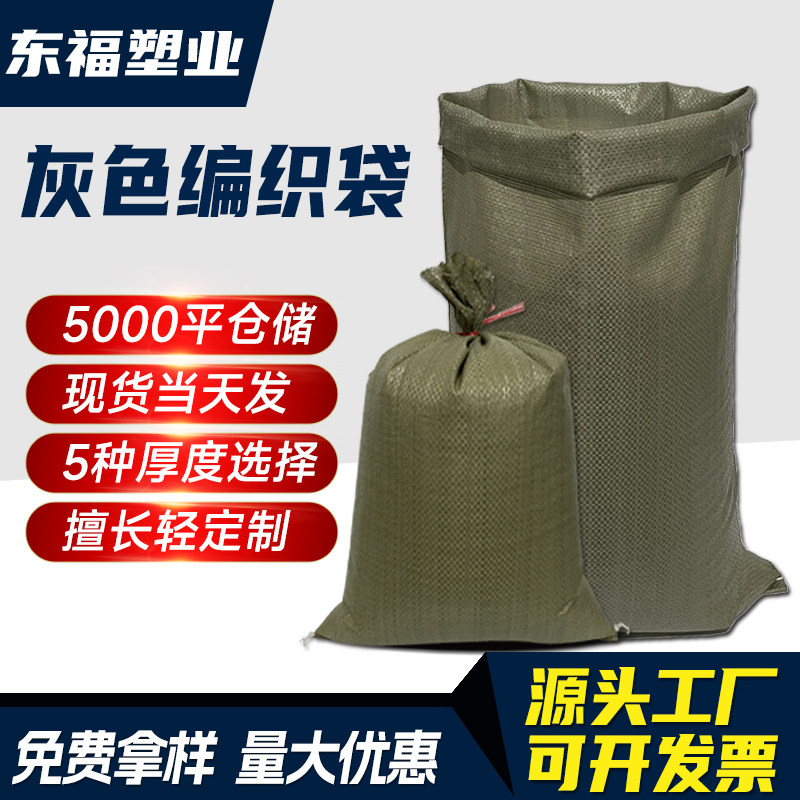Parcel: (439, 80, 787, 636), (314, 254, 612, 649)
